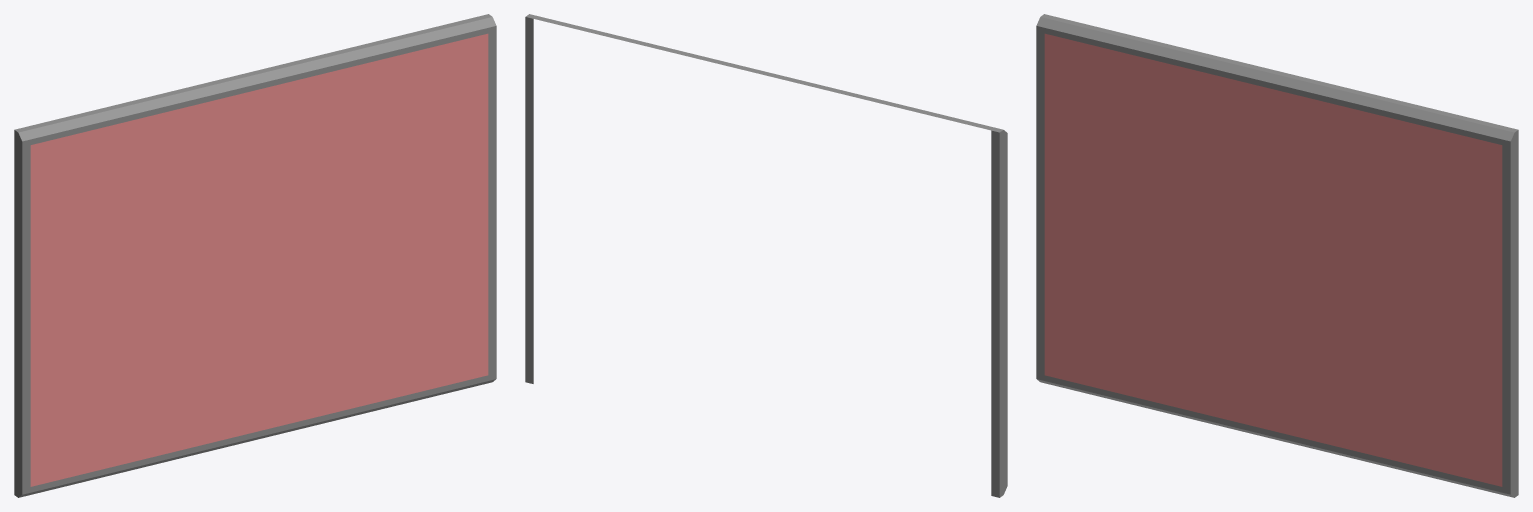
Rendered from S_Envi_Fyz_AD_15c.gltf.
The picture shows the model from 3 angles, left to right: view 1: azimuth 30°, elevation 25°; view 2: azimuth 150°, elevation 25°; view 3: azimuth 330°, elevation 25°; orthographic projection.
Parts seen in each view (by area): view 1: S_Envi_Fyz_AD_15c; view 2: S_Envi_Fyz_AD_15c; view 3: S_Envi_Fyz_AD_15c.
Boxes of the visible parts, x1,y1,x2,y2 form: S_Envi_Fyz_AD_15c: (14,14,496,497); S_Envi_Fyz_AD_15c: (525,14,1007,497); S_Envi_Fyz_AD_15c: (1036,14,1518,497).
Size of the model in its own units: 14.4 by 10.6 by 0.4117.
